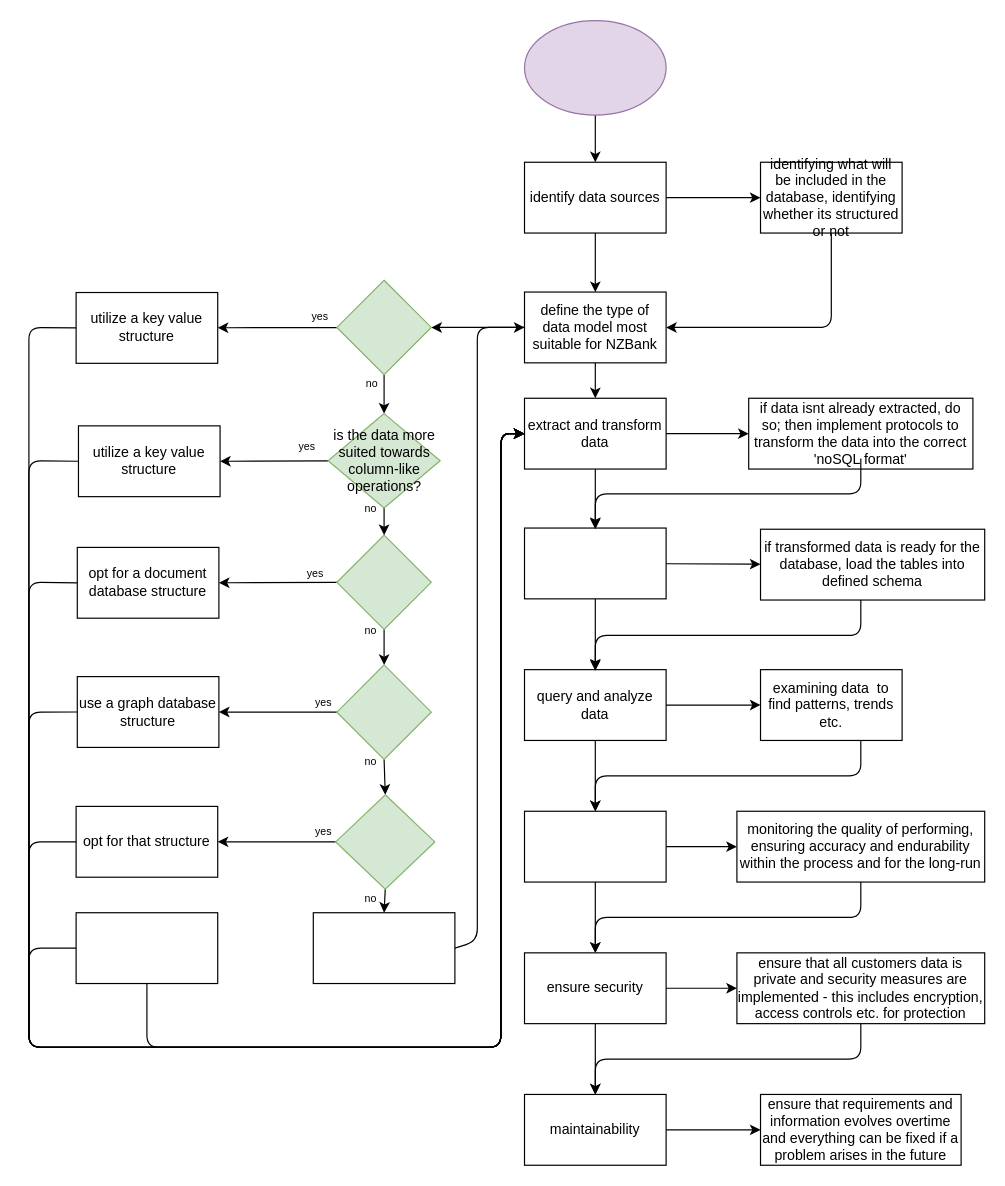
The diagram is 1005 pixels wide and 1186 high, and some of its shapes have lost their labels. Here are the shapes that lost their labels. From the top down, the box of each, then its label:
(523, 19, 666, 115): NoSQL usage for a bank
(336, 279, 431, 375): is the data represented best with key value tables?
(336, 534, 431, 630): does the data consist mostly of documents?
(523, 527, 666, 599): load data into NoSQL database
(336, 664, 431, 759): would the data fit best with graph visualization?
(335, 794, 435, 889): is there another unspecified database thats preferable?
(523, 810, 666, 882): monitor performance
(75, 912, 218, 984): compile plan based on database structuring
(312, 912, 455, 984): if there isnt a decided NoSQL database, talk with NZBank
